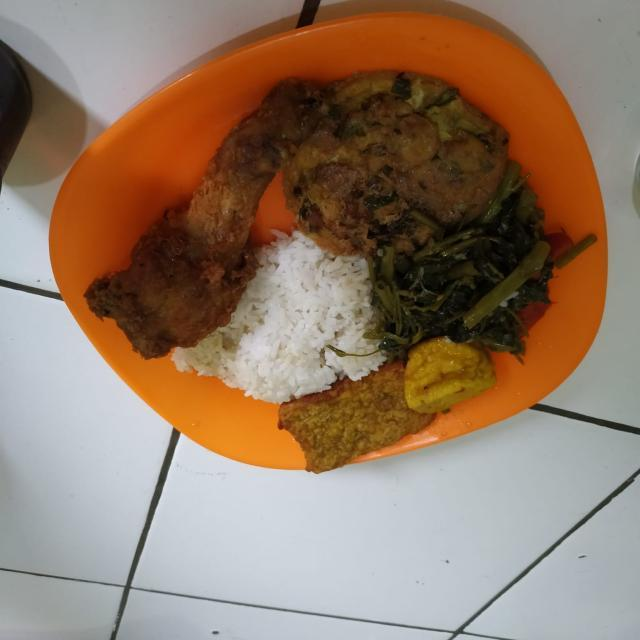nasi_putih: (192, 255, 399, 426)
